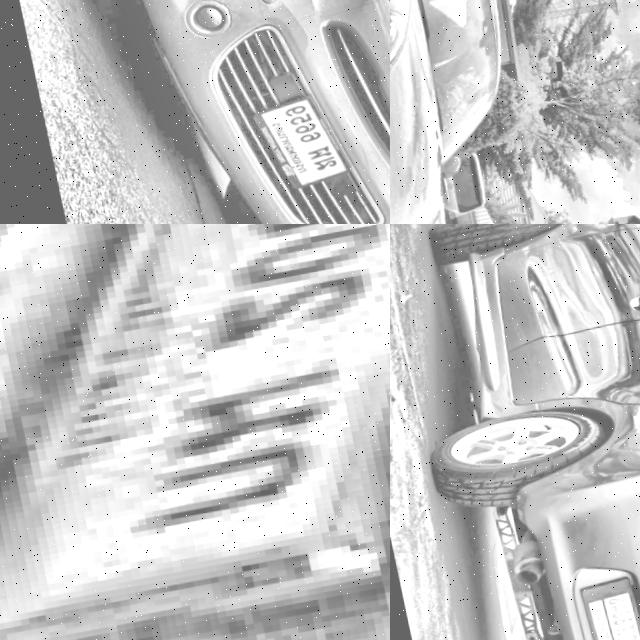license-plate: (0, 224, 390, 640), (233, 91, 347, 201), (566, 578, 640, 640)
